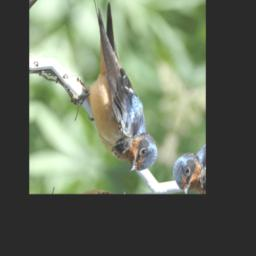Swallow: (42, 0, 197, 182)
